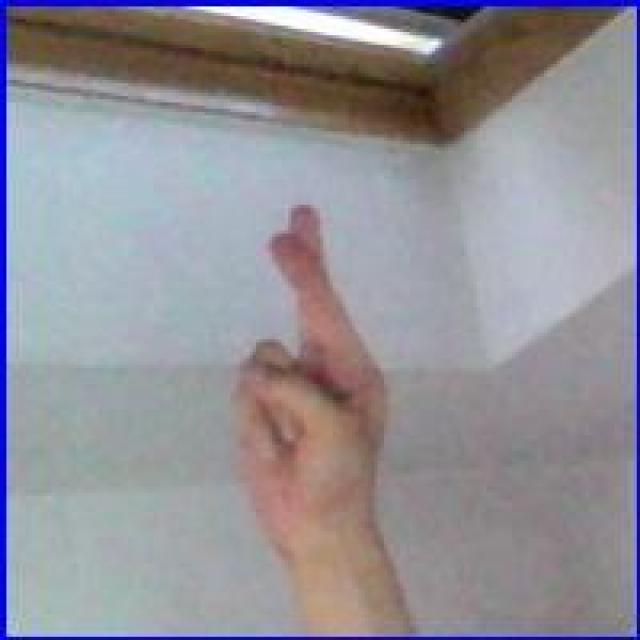R: (219, 198, 395, 534)
